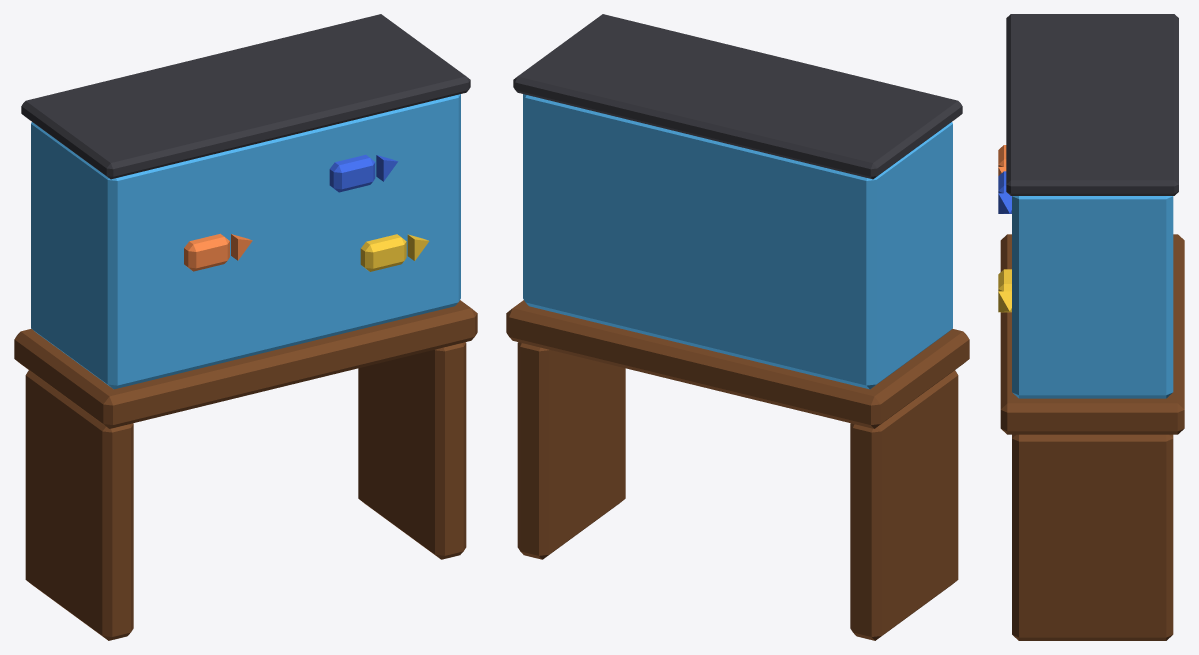
File: FishTank.fbx
3 renders of one model, left to right at view 1: azimuth 30°, elevation 25°; view 2: azimuth 150°, elevation 25°; view 3: azimuth 270°, elevation 25°, orthographic. The views are drawn at different scales.
Visible parts, largest first — view 1: FishTank; view 2: FishTank; view 3: FishTank.
Part boxes in pixels (x1=…): FishTank: x1=14, y1=14, x2=477, y2=640; FishTank: x1=506, y1=14, x2=969, y2=640; FishTank: x1=998, y1=14, x2=1184, y2=640.
Size of the model in its own units: 3.6 by 4.42 by 1.62.
Materials: 1 (1 with a texture image).
